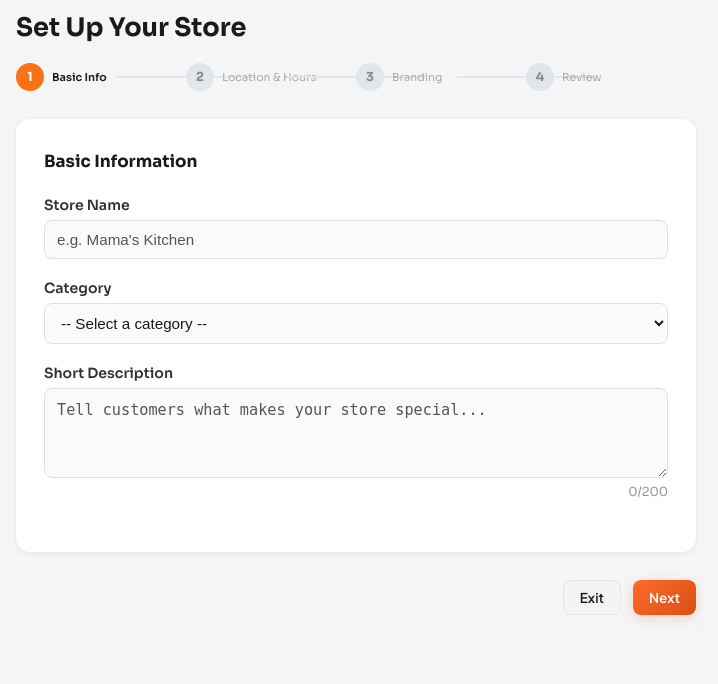
Test case: StoreSetup – step 0 validation › shows an error if category is not selected on Next
Type "My Store" into the field with placeholder "e.g. Mama's Kitchen" at coordinates (356, 240), box 44,220 -> 668,259
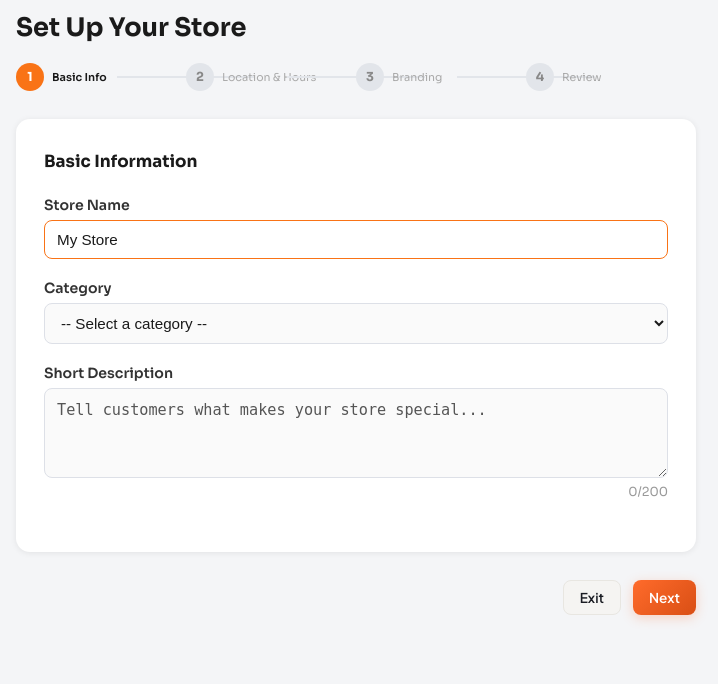
Click the button "Next" at coordinates (664, 598), box 633,580 -> 696,615
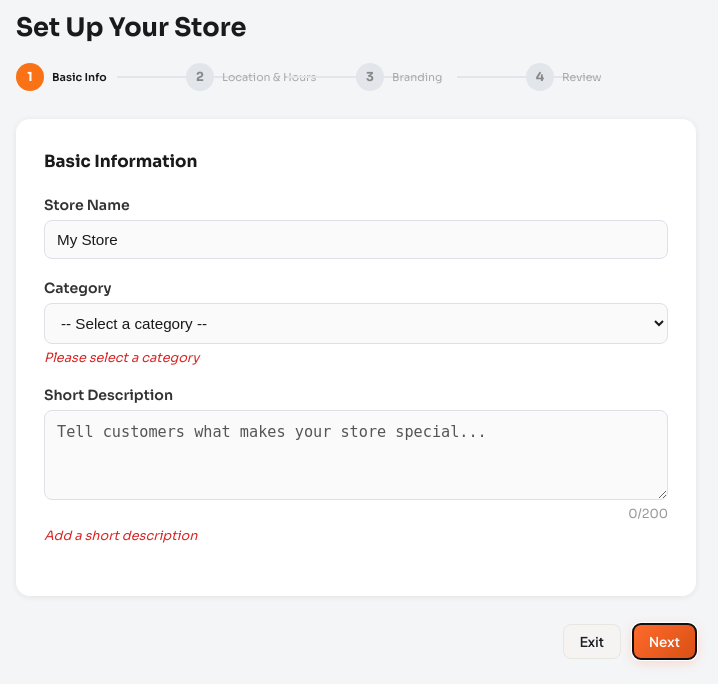
Check: the text "Please select a category" is shown, box 44,350 -> 199,366
